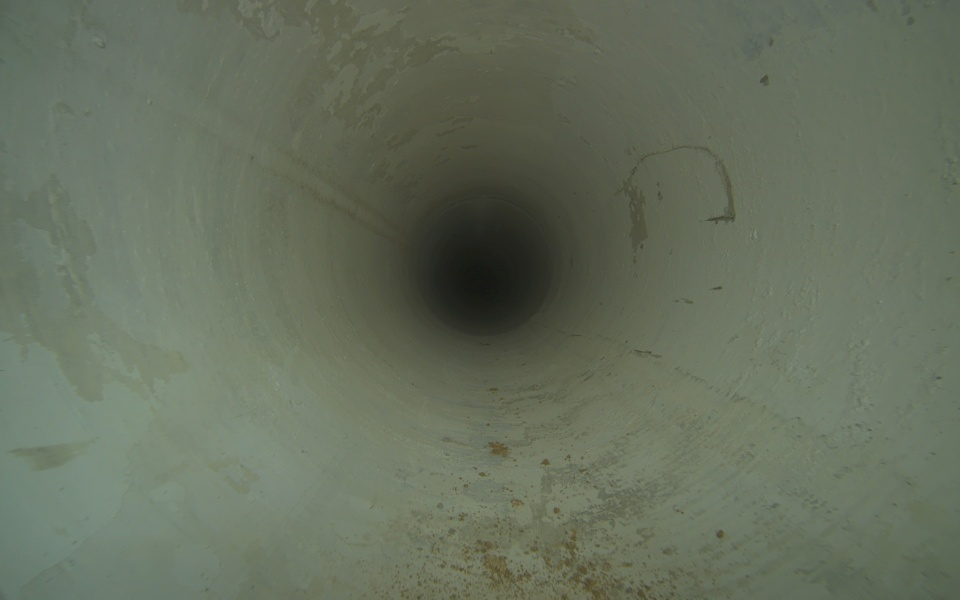circle1: (409, 192, 557, 339)
circle2: (463, 270, 496, 303)
